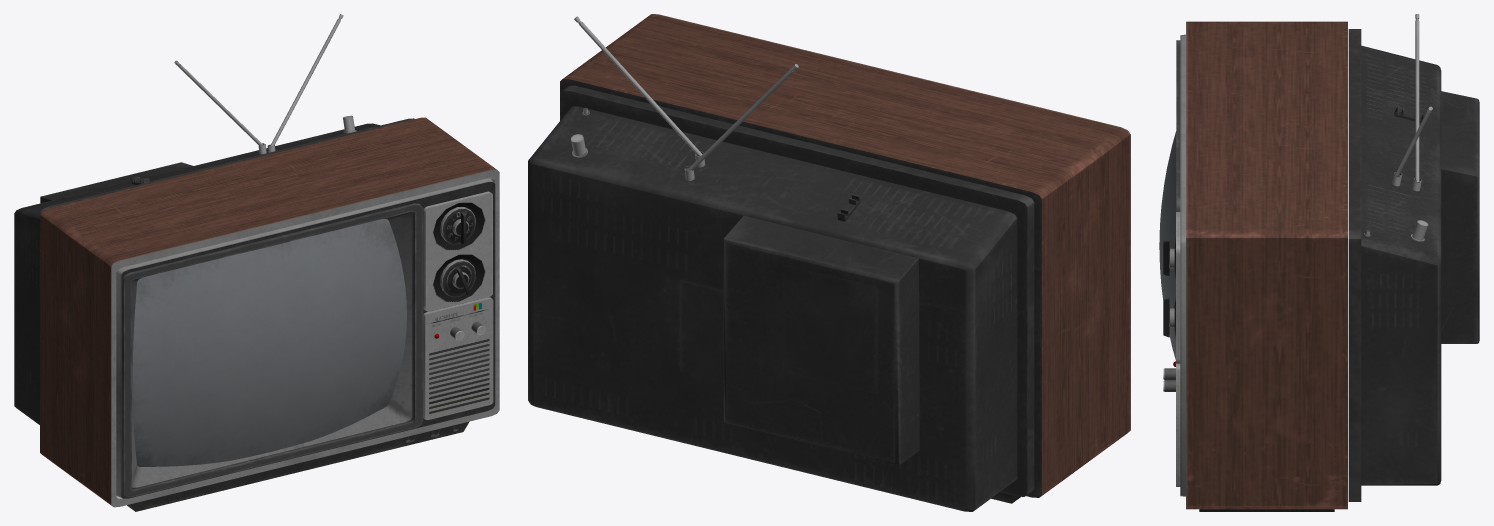
3 views of the same model, side by side, from view 1: azimuth 30°, elevation 25°; view 2: azimuth 150°, elevation 25°; view 3: azimuth 270°, elevation 25° (orthographic). The views are drawn at different scales.
Parts seen in each view (by area): view 1: TV; view 2: TV; view 3: TV.
Boxes of the visible parts, x1,y1,x2,y2 form: TV: (14,14,499,511); TV: (528,14,1130,511); TV: (1159,14,1479,511).
Size of the model in its own units: 424 by 363 by 267.
1 material, 1 textured.
